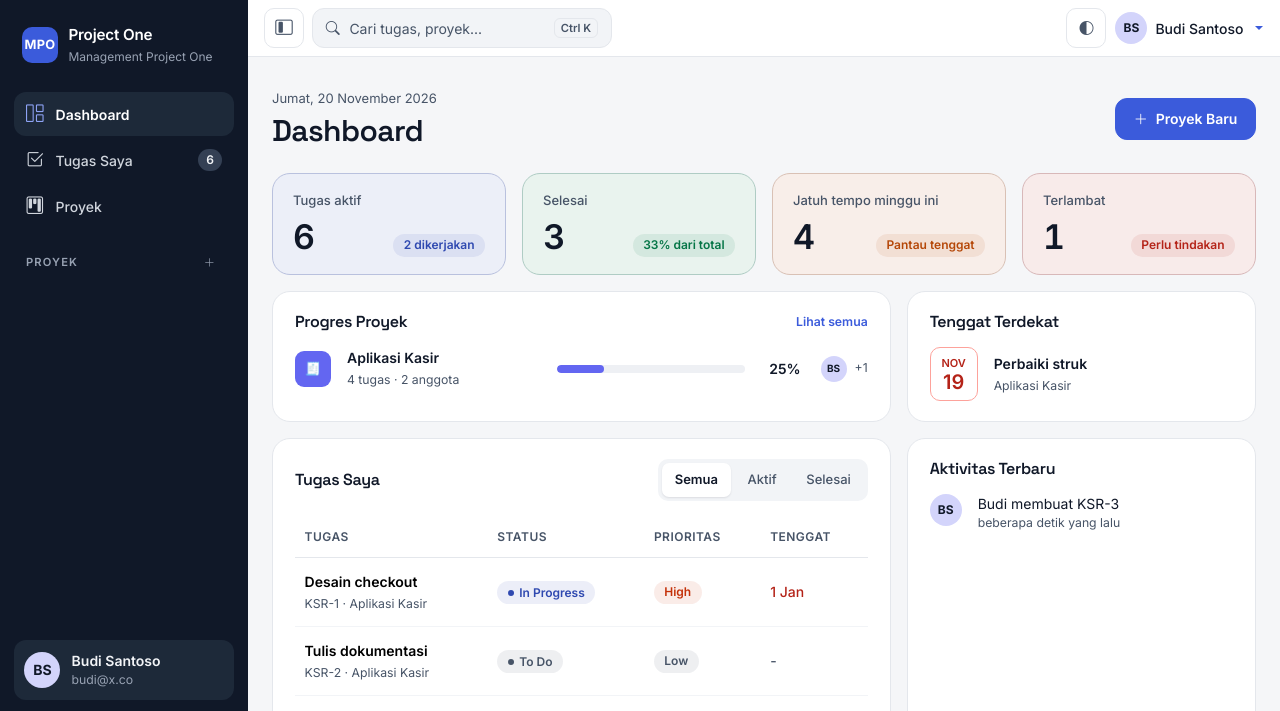
Scenario: dashboard › Tugas Saya: tab Semua/Aktif/Selesai menyaring baris; baris menaut ke papan proyek dengan panel terbuka
This screenshot has width=1280, height=711.
Expected: the text "Desain checkout" is shown, top-left (305, 573), bottom-right (417, 590)
Click the button "Aktif".
click(762, 480)  # box top-left (735, 463), bottom-right (790, 496)
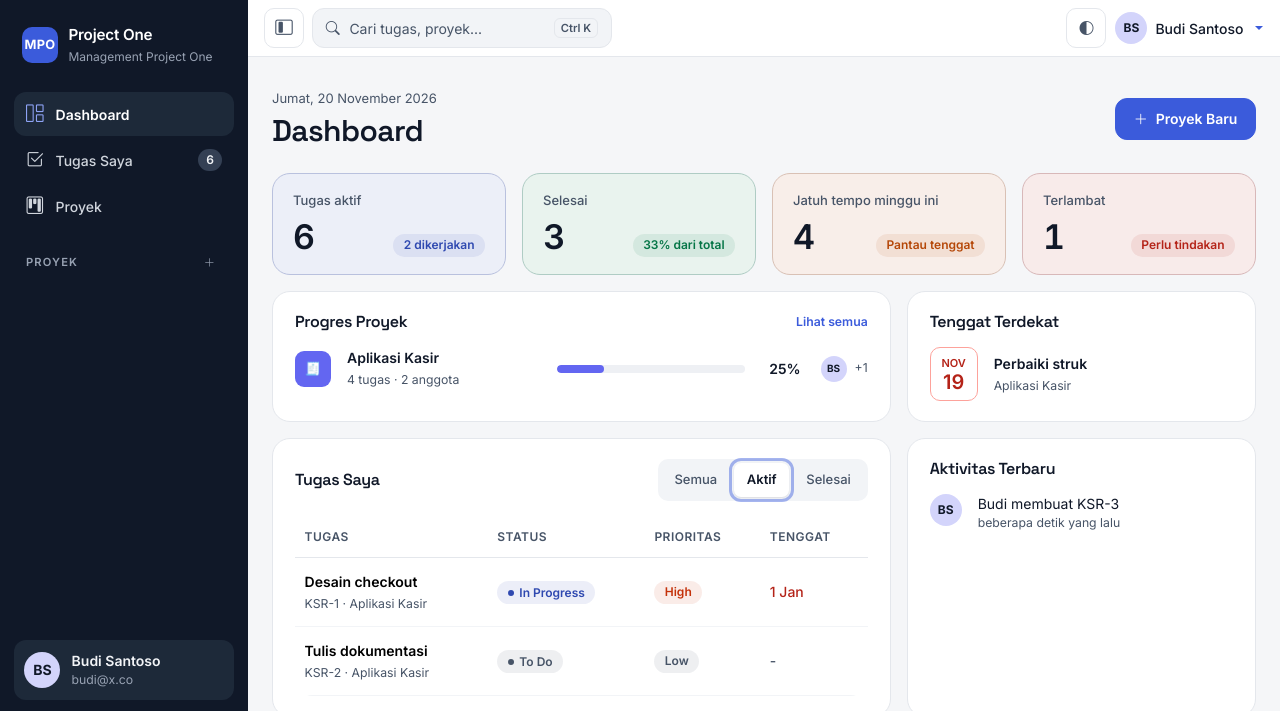
Result: the number of rows is 3 at top-left (295, 516), bottom-right (868, 557); top-left (295, 557), bottom-right (868, 626); top-left (295, 626), bottom-right (868, 695)
Click the button "Selesai".
click(829, 480)  # box top-left (794, 463), bottom-right (864, 496)
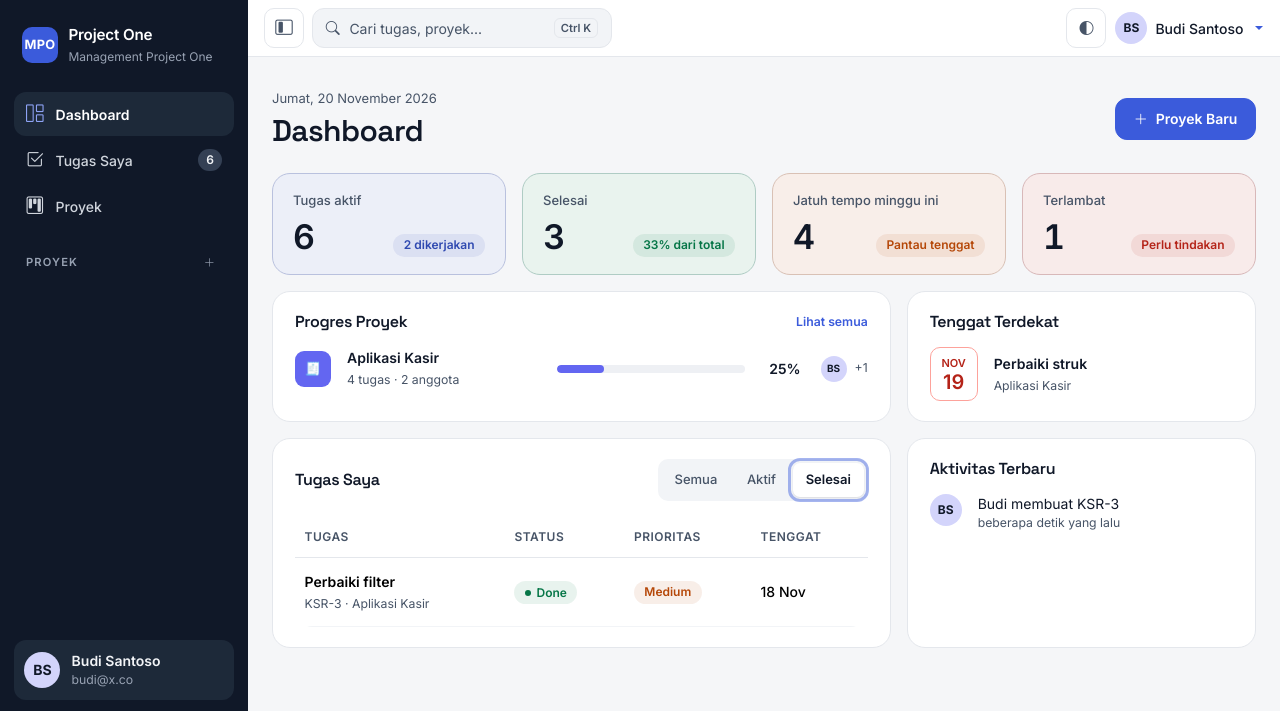
Result: the text "Perbaiki filter" is shown at top-left (305, 573), bottom-right (395, 590)
Result: the link "Desain checkout" is gone
